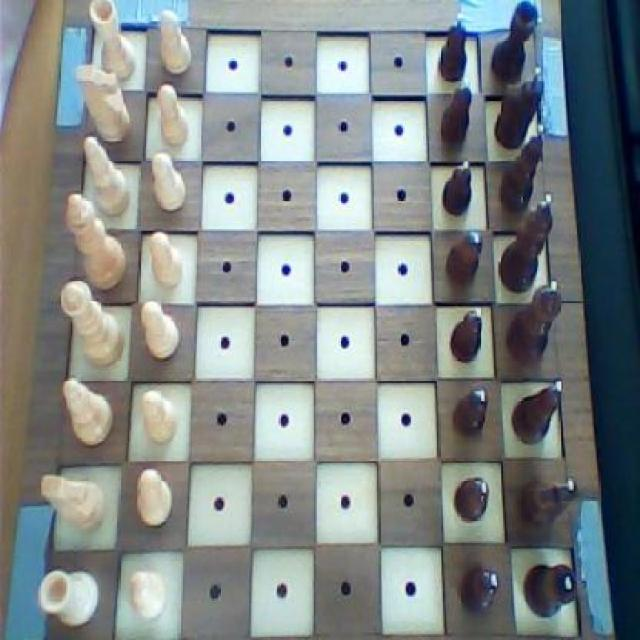bishop: (497, 120, 548, 217), (509, 377, 566, 451)
black-bishop: (497, 191, 558, 296)
black-king: (515, 466, 580, 541), (491, 66, 548, 151)
black-knight: (444, 226, 486, 295), (435, 9, 471, 85), (457, 563, 501, 620), (451, 383, 491, 445), (437, 83, 475, 148), (452, 472, 493, 532), (449, 304, 487, 368), (440, 155, 476, 221)
black-pawn: (502, 277, 563, 371)
black-queen: (486, 0, 544, 88), (518, 558, 578, 618)
black-rook: (76, 134, 132, 221), (56, 376, 116, 452)
white-bishop: (62, 190, 128, 292)
white-king: (71, 60, 133, 148), (38, 472, 110, 538)
white-knight: (154, 5, 197, 80), (143, 226, 187, 292), (138, 300, 182, 365), (134, 468, 177, 532), (149, 149, 190, 216), (155, 82, 193, 149), (140, 388, 182, 448), (128, 564, 170, 624)
white-pawn: (57, 277, 127, 374)
white-queen: (82, 0, 140, 83), (37, 564, 101, 628)
